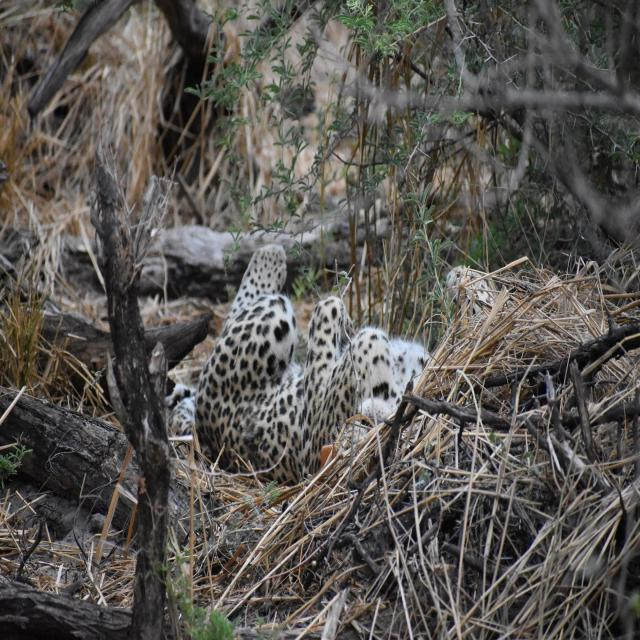Leopard: (150, 252, 449, 485)
